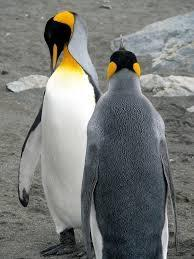king: (12, 6, 106, 259), (78, 27, 176, 259)
